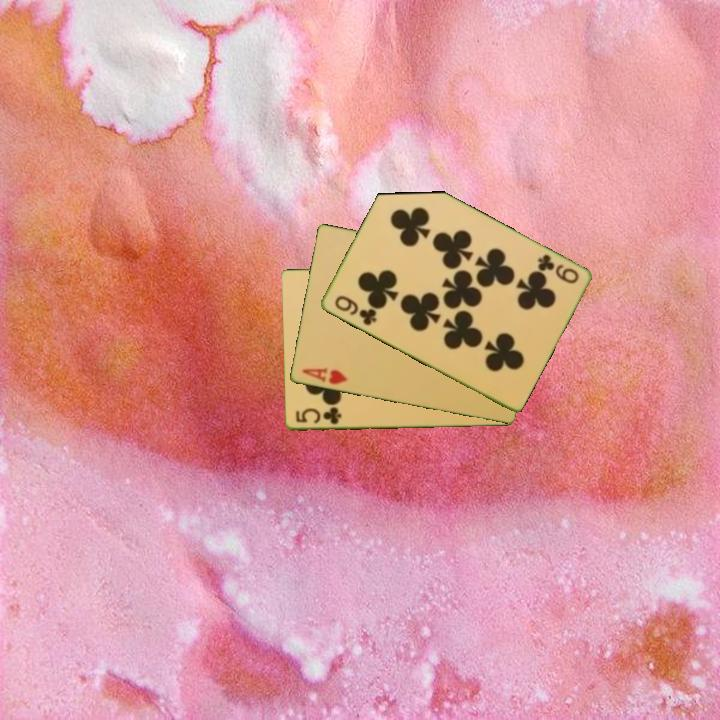5c: (292, 404, 344, 427)
9c: (330, 292, 379, 329), (533, 251, 582, 287)
Ah: (298, 365, 350, 387)
